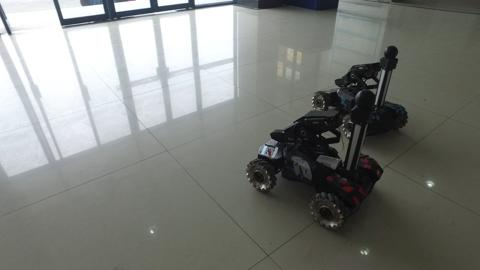chariot: (241, 93, 386, 233), (310, 40, 409, 149)
